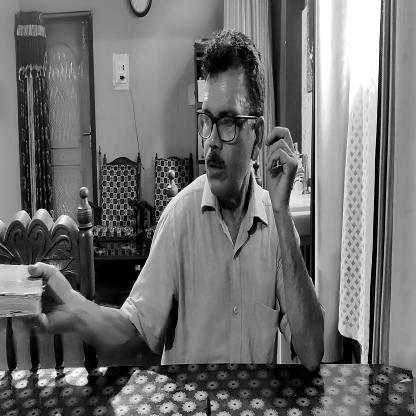Distracted: (193, 27, 262, 208)
